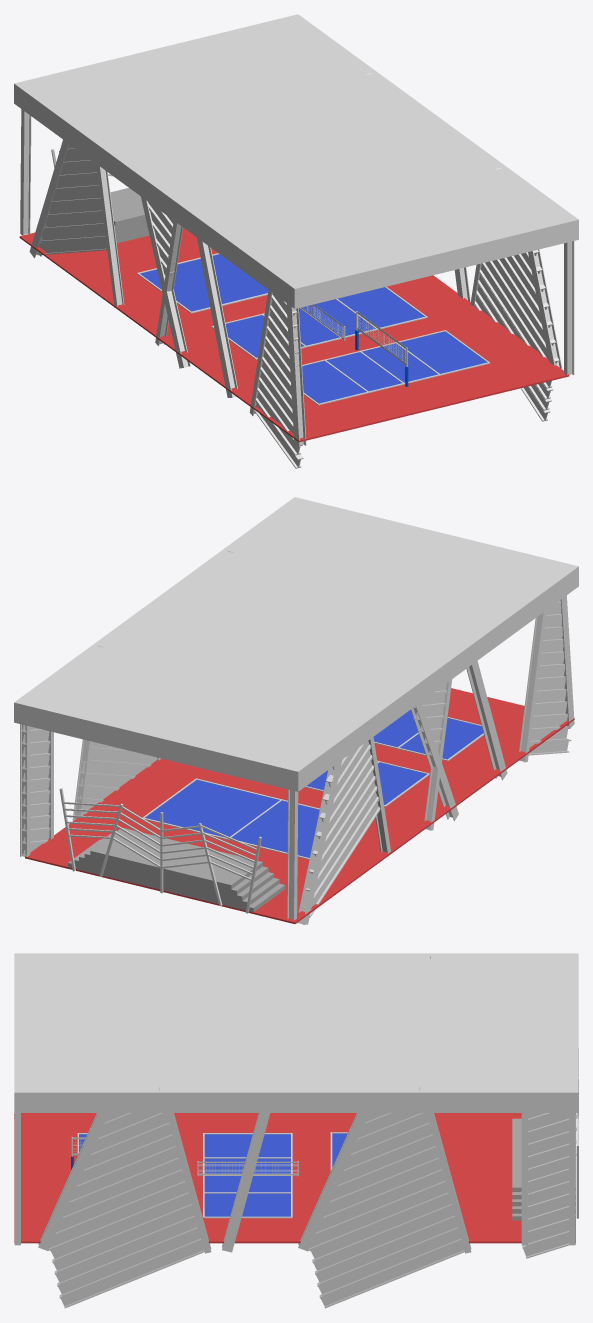
Rendered from 風雨球場.fbx.
The picture shows the model from 3 angles, top to bottom: view 1: azimuth 30°, elevation 25°; view 2: azimuth 150°, elevation 25°; view 3: azimuth 270°, elevation 25°; orthographic projection.
Parts seen in each view (by area): view 1: Cube.029, Cube, Cube.005, Cube.006, Cube.024, Cube.028, Cube.022, Cube.013, Cube.010, Cube.011, Cube.026, Cube.023 (+7 smaller); view 2: Cube.029, Cube, Cube.004, Cube.013, Cube.024, Cube.022, Cube.028, Cube.019, Cube.005, Cube.016, Cube.021, Cube.026 (+13 smaller); view 3: Cube.029, Cube, Cube.015, Cube.010, Cube.016, Cube.011, Cube.006, Cube.019, Cube.014, Cube.009, Cube.020, Cube.008 (+6 smaller).
Part boxes in pixels (left/top/right/bottom): Cube.029: left=14, top=14, right=578, bottom=308; Cube: left=19, top=228, right=569, bottom=442; Cube.005: left=302, top=311, right=490, bottom=405; Cube.006: left=211, top=286, right=427, bottom=359; Cube.024: left=37, top=134, right=107, bottom=255; Cube.028: left=254, top=293, right=303, bottom=468; Cube.022: left=20, top=109, right=124, bottom=307; Cube.013: left=137, top=253, right=268, bottom=313; Cube.010: left=482, top=168, right=559, bottom=363; Cube.011: left=474, top=263, right=553, bottom=421; Cube.026: left=197, top=238, right=237, bottom=397; Cube.023: left=286, top=303, right=306, bottom=447; Cube.029: left=14, top=497, right=578, bottom=791; Cube: left=25, top=688, right=574, bottom=923; Cube.004: left=68, top=827, right=285, bottom=912; Cube.013: left=142, top=778, right=319, bottom=859; Cube.024: left=302, top=715, right=380, bottom=917; Cube.022: left=287, top=737, right=390, bottom=924; Cube.028: left=528, top=600, right=571, bottom=755; Cube.019: left=20, top=725, right=50, bottom=856; Cube.005: left=373, top=710, right=483, bottom=761; Cube.016: left=77, top=760, right=149, bottom=813; Cube.021: left=519, top=610, right=546, bottom=762; Cube.026: left=466, top=661, right=507, bottom=780; Cube.029: left=14, top=953, right=578, bottom=1112; Cube: left=14, top=1113, right=575, bottom=1243; Cube.015: left=308, top=1087, right=448, bottom=1250; Cube.010: left=48, top=1087, right=188, bottom=1250; Cube.016: left=310, top=1194, right=464, bottom=1308; Cube.011: left=50, top=1194, right=204, bottom=1308; Cube.006: left=203, top=1133, right=292, bottom=1218; Cube.019: left=522, top=1113, right=576, bottom=1258; Cube.014: left=298, top=1113, right=369, bottom=1251; Cube.009: left=38, top=1113, right=109, bottom=1250; Cube.020: left=222, top=1113, right=270, bottom=1252; Cube.008: left=166, top=1113, right=211, bottom=1253.
Size of the model in its own units: 5175 by 3792 by 8865.
